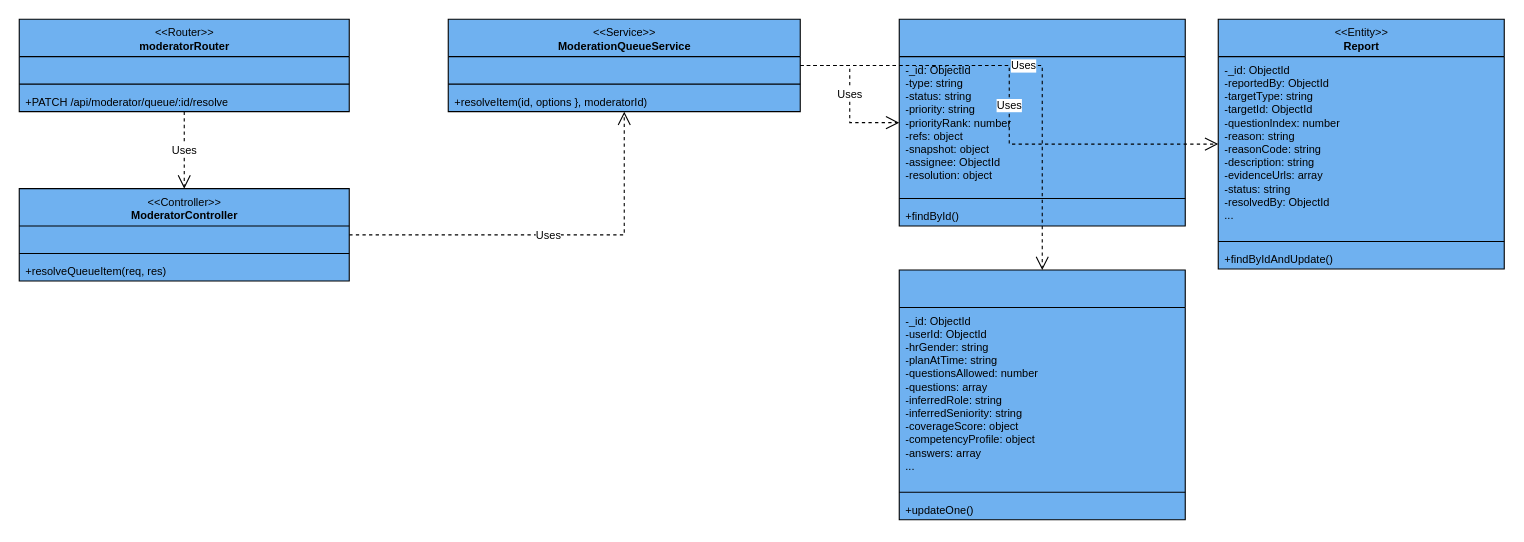
This 1524x542 diagram has some shape labels left out. Each missing label, with the box of its shape:
<<Entity>> InterviewSession: (898, 269, 1185, 520)
<<Entity>> ModerationItem: (898, 18, 1185, 226)
